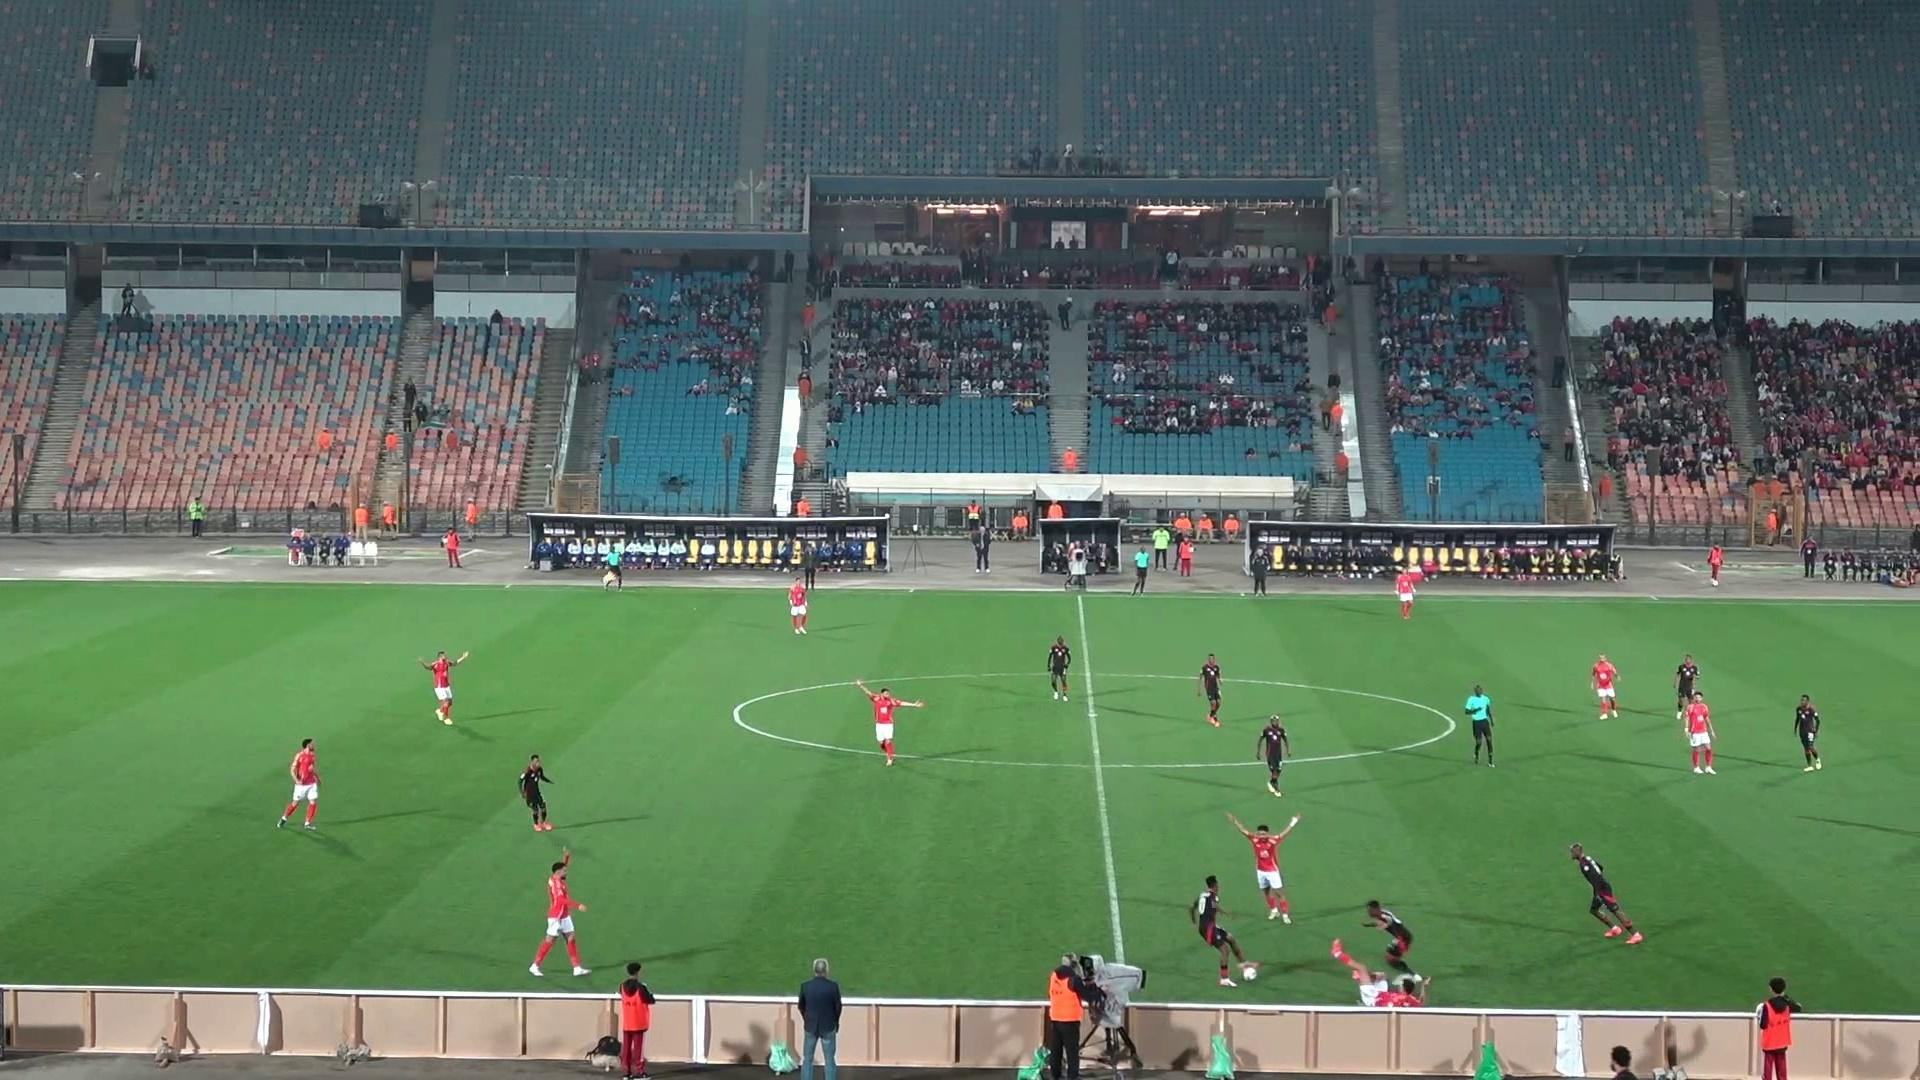Ball: (1241, 963, 1261, 980)
Team1: (527, 851, 589, 976), (1331, 939, 1428, 1005), (855, 680, 923, 765), (277, 740, 319, 829), (425, 651, 469, 725), (1676, 692, 1716, 774), (1395, 564, 1423, 618)
Team2: (1569, 843, 1643, 944), (1255, 715, 1288, 796), (518, 754, 553, 831), (1044, 636, 1072, 702), (1199, 654, 1222, 727)
